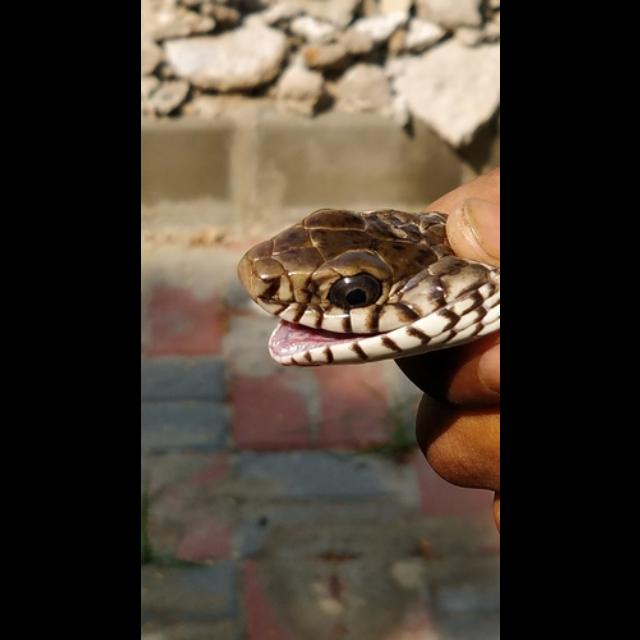snake: (236, 198, 500, 370)
